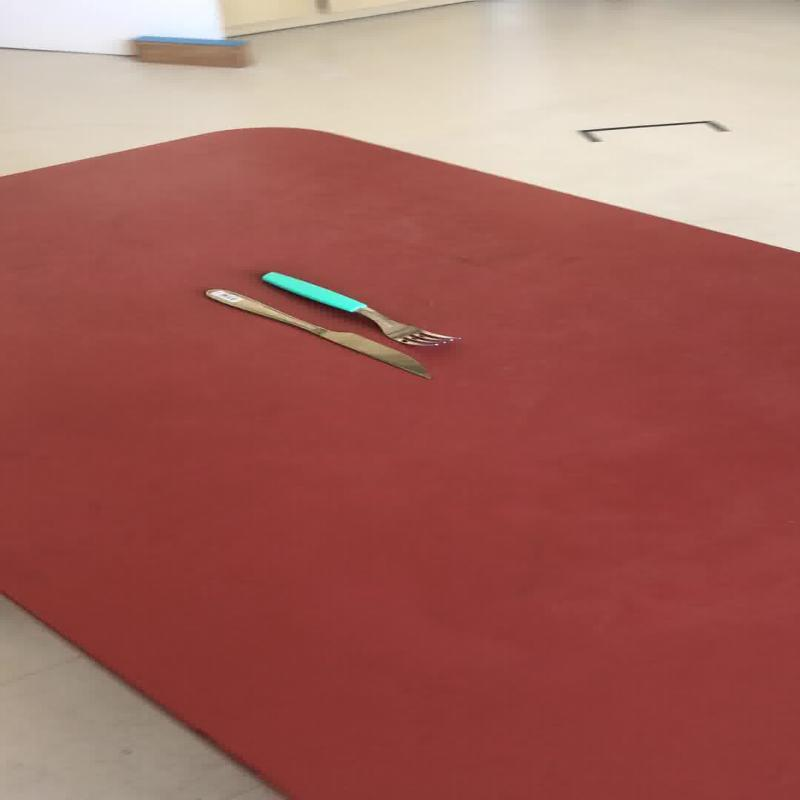fork: (259, 270, 460, 346)
knife: (202, 286, 431, 380)
